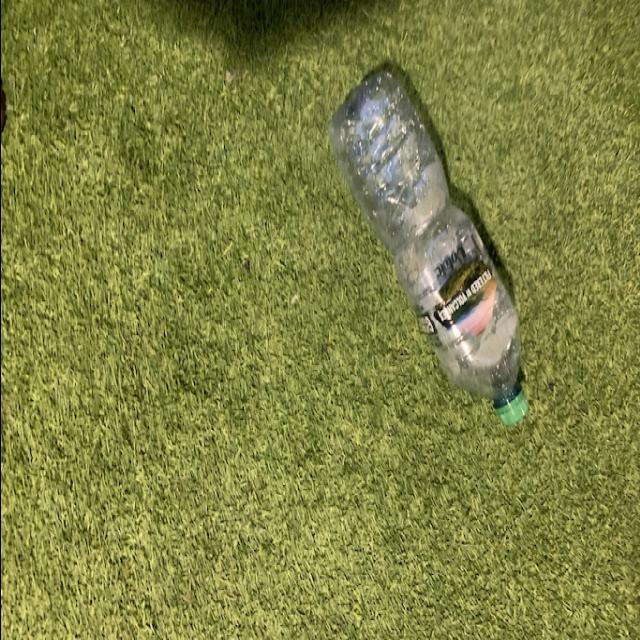PET: (324, 59, 528, 431)
